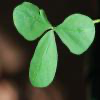Soyabean leaf: (27, 29, 58, 89), (55, 12, 96, 56), (12, 1, 52, 43)
